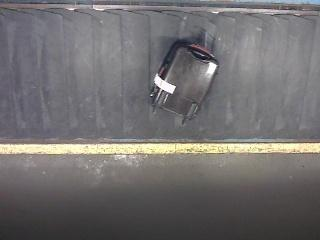Suitcase: (150, 41, 219, 125)
